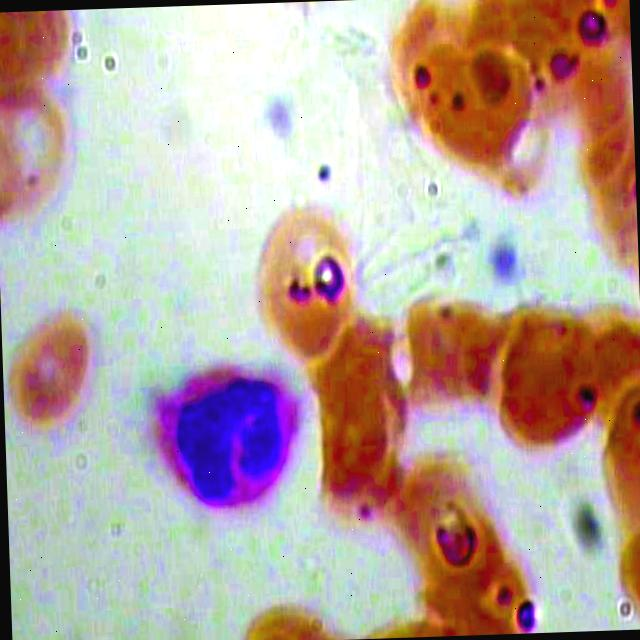Platelets: (256, 92, 298, 144), (482, 236, 524, 286)
RBC: (416, 27, 538, 204), (488, 289, 602, 469), (242, 191, 354, 371), (405, 464, 509, 606), (393, 285, 496, 428), (3, 296, 96, 431), (0, 83, 80, 224), (585, 397, 640, 538)
WBC: (134, 356, 316, 524)
